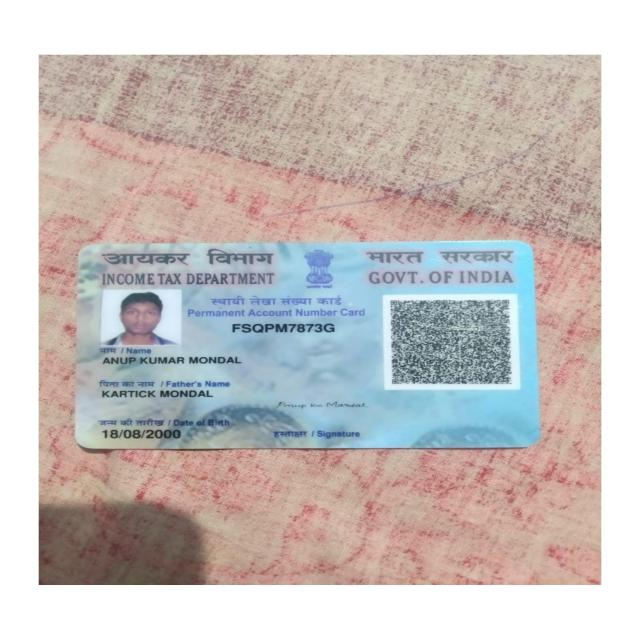pan_card: (74, 242, 538, 449)
